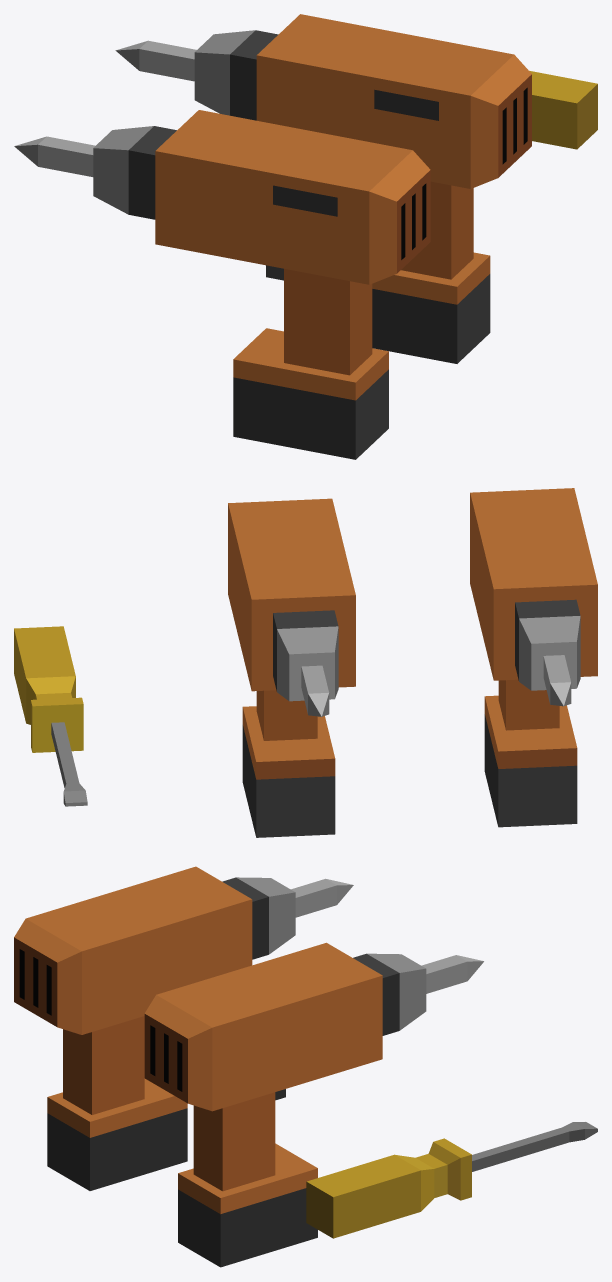
Rendered from finalItem.glb.
3 renders of one model, top to bottom at view 1: azimuth 30°, elevation 25°; view 2: azimuth 150°, elevation 25°; view 3: azimuth 270°, elevation 25°, orthographic. The views are drawn at different scales.
Visible parts, largest first — view 1: Items_Drill_01(Clone) (×2), Items_ScrewDriver_01(Clone); view 2: Items_Drill_01(Clone) (×2), Items_ScrewDriver_01(Clone); view 3: Items_Drill_01(Clone) (×2), Items_ScrewDriver_01(Clone).
Boxes of the visible parts, box(x1,y1,x2,y2) form: Items_Drill_01(Clone) (×2): box(14, 14, 531, 459); Items_ScrewDriver_01(Clone): box(529, 70, 597, 149); Items_Drill_01(Clone) (×2): box(228, 488, 597, 837); Items_ScrewDriver_01(Clone): box(14, 626, 87, 806); Items_Drill_01(Clone) (×2): box(14, 866, 483, 1267); Items_ScrewDriver_01(Clone): box(306, 1122, 597, 1238).
Bounding box in the file's own units: 1.33 × 0.6155 × 1.31.
Materials: 1 (1 with a texture image).
